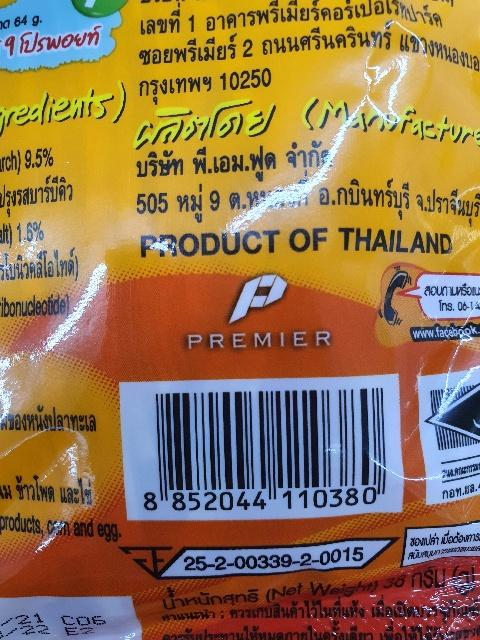Barcode: (122, 374, 400, 519)
